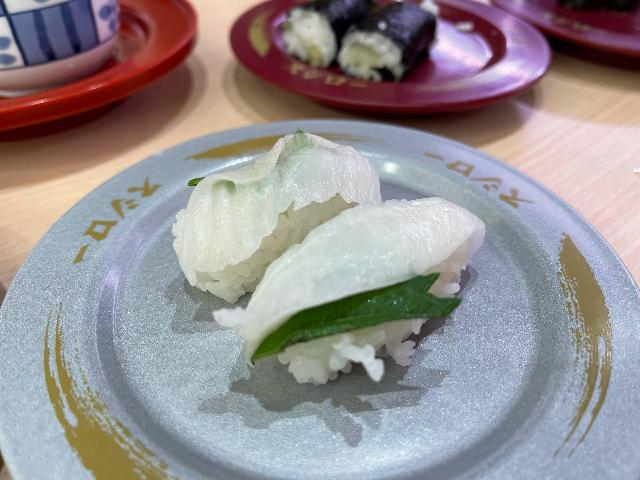janred: (235, 0, 527, 108), (0, 0, 222, 120), (501, 0, 640, 65)
janwhite: (49, 153, 633, 480)
